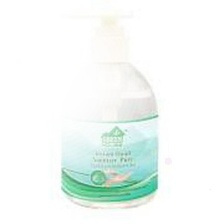aerosol_cans: (54, 9, 162, 213)
